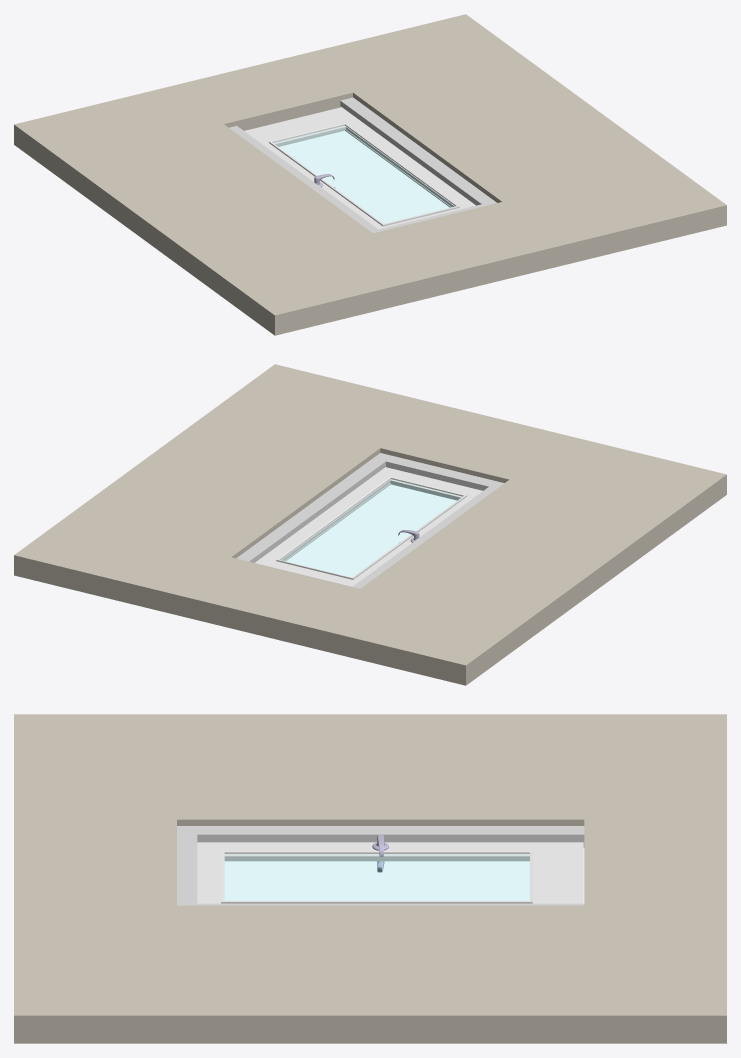
File: Door02.gltf
3 views of the same model, one above another, from view 1: azimuth 30°, elevation 25°; view 2: azimuth 150°, elevation 25°; view 3: azimuth 270°, elevation 25° (orthographic). The views are drawn at different scales.
Parts seen in each view (by area): view 1: SIP, Door, DoorFrame; view 2: SIP, Door, DoorFrame; view 3: SIP, Door, DoorFrame.
Part boxes in pixels (box(x1,y1,x2,y2)): SIP: box(14, 14, 726, 335); Door: box(244, 107, 475, 229); DoorFrame: box(229, 97, 496, 233); SIP: box(14, 364, 726, 685); Door: box(255, 467, 482, 586); DoorFrame: box(236, 453, 504, 588); SIP: box(14, 714, 726, 1043); Door: box(197, 842, 583, 903); DoorFrame: box(177, 826, 584, 905).
Bounding box in the file's own units: 3.5 × 0.1801 × 3.5.
